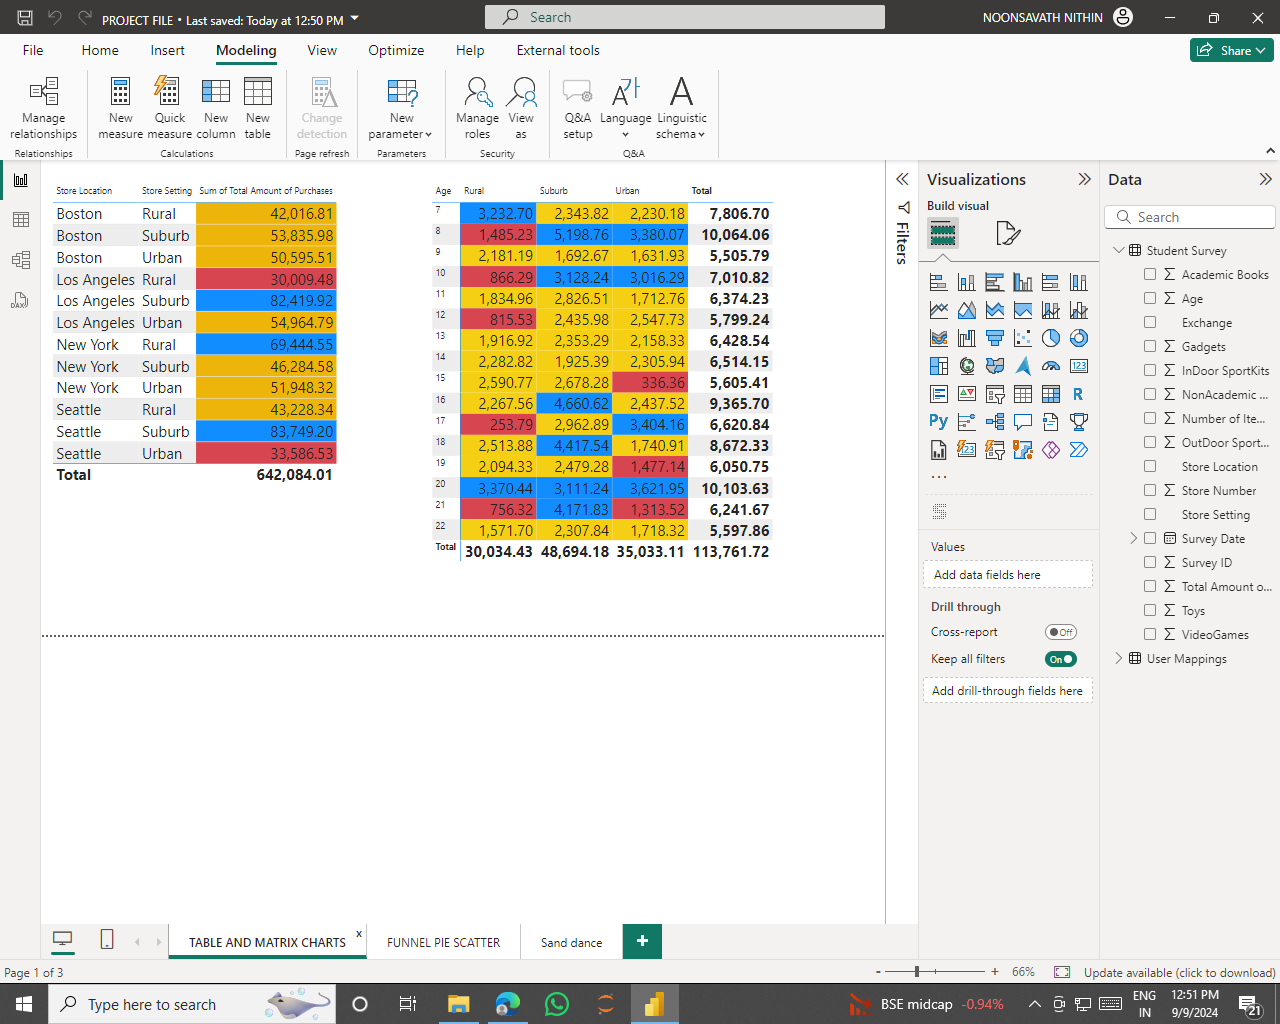

What the dashboard file says about the page in this screenshot:
{"tool":"powerbi","page":{"name":"TABLE AND MATRIX CHARTS","canvas":[1280,720],"ordinal":0},"visuals":[{"type":"tableEx","fields":{"Values":["Student Survey.Store Location","Student Survey.Store Setting","Sum(Student Survey.Total Amount of Purchases)"]},"box":[12.1,31.8,477.7,514.1],"z":0},{"type":"pivotTable","fields":{"Rows":["Student Survey.Age"],"Values":["Sum(Student Survey.OutDoor SportKits)"],"Columns":["Student Survey.Store Setting"]},"box":[588.4,31.8,550.5,594.5],"z":1000}]}

Visuals, with their boxes on the page's 1280x720 design canvas (x1, y1, x2, y2). These are canvas units, not pixel positions in the 1280x1024 screenshot, which may show the page scaled, cropped or inside an application window:
tableEx - Student Survey.Store Location x Student Survey.Store Setting: [12,32,490,546]
pivotTable - Student Survey.Age x Sum(Student Survey.OutDoor SportKits): [588,32,1139,626]
